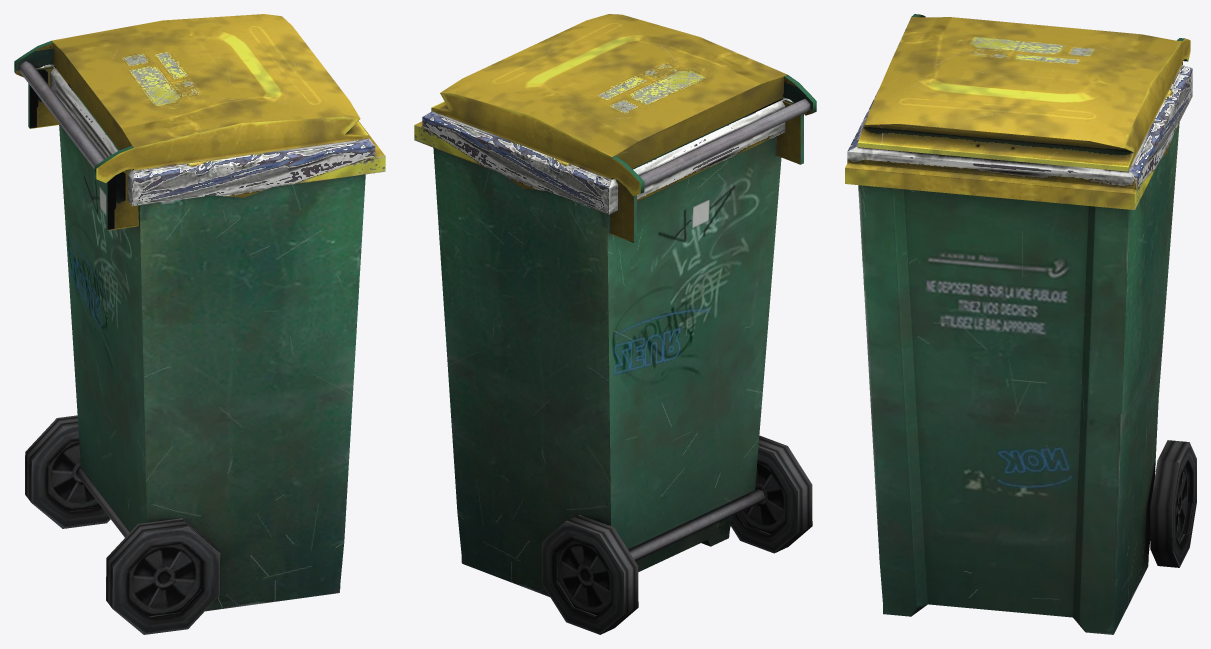
The model's file is poubelle_7.glb.
The picture shows the model from 3 angles, left to right: view 1: azimuth 30°, elevation 25°; view 2: azimuth 150°, elevation 25°; view 3: azimuth 270°, elevation 25°; orthographic projection. The views are drawn at different scales.
Visible parts, largest first — view 1: SM_TrashBin_Material #2_0; view 2: SM_TrashBin_Material #2_0; view 3: SM_TrashBin_Material #2_0.
Boxes of the visible parts, x1,y1,x2,y2 form: SM_TrashBin_Material #2_0: (14,14,385,634); SM_TrashBin_Material #2_0: (414,14,816,634); SM_TrashBin_Material #2_0: (845,14,1196,634).
Size of the model in its own units: 0.7162 by 1.11 by 0.6904.
1 material, 1 textured.
